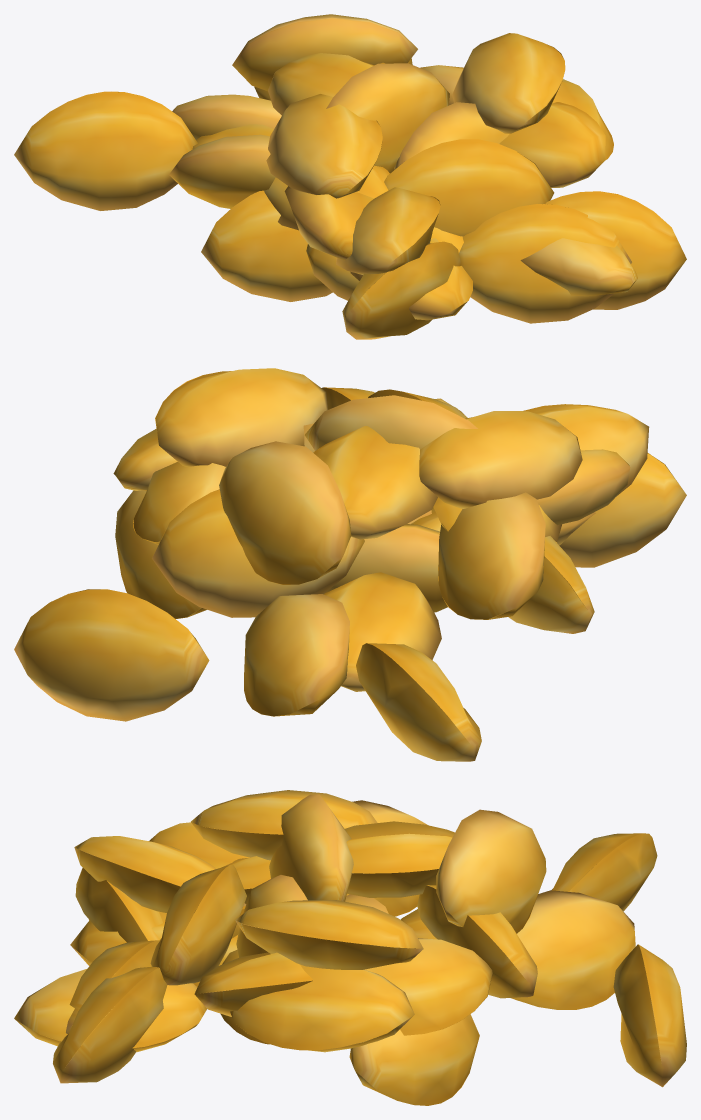
Rendered from NP_Wheat_GrainPile_LOD1.fbx.
3 views of the same model, one above another, from view 1: azimuth 30°, elevation 25°; view 2: azimuth 150°, elevation 25°; view 3: azimuth 270°, elevation 25° (orthographic). The views are drawn at different scales.
Visible parts, largest first — view 1: NP_Wheat_GrainPile.001; view 2: NP_Wheat_GrainPile.001; view 3: NP_Wheat_GrainPile.001.
Boxes of the visible parts, box(x1,y1,x2,y2) form: NP_Wheat_GrainPile.001: box(14, 14, 686, 339); NP_Wheat_GrainPile.001: box(14, 368, 686, 761); NP_Wheat_GrainPile.001: box(14, 790, 686, 1105).
Size of the model in its own units: 17.45 by 7.44 by 21.26.
